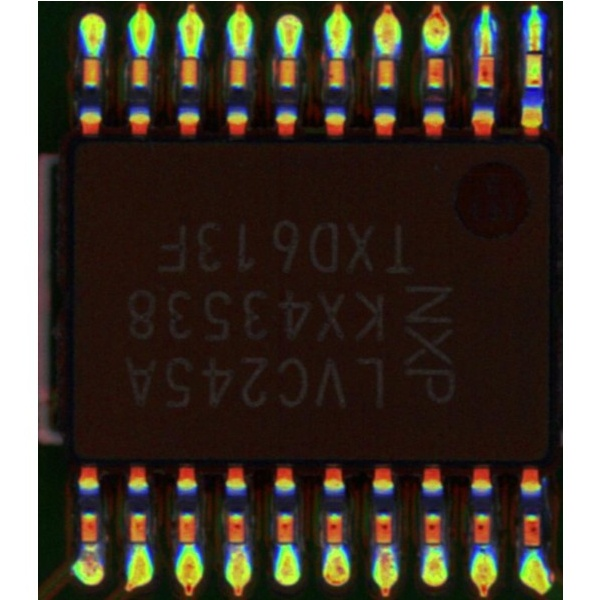Bad_podu: (527, 36, 540, 61), (479, 40, 491, 61)
